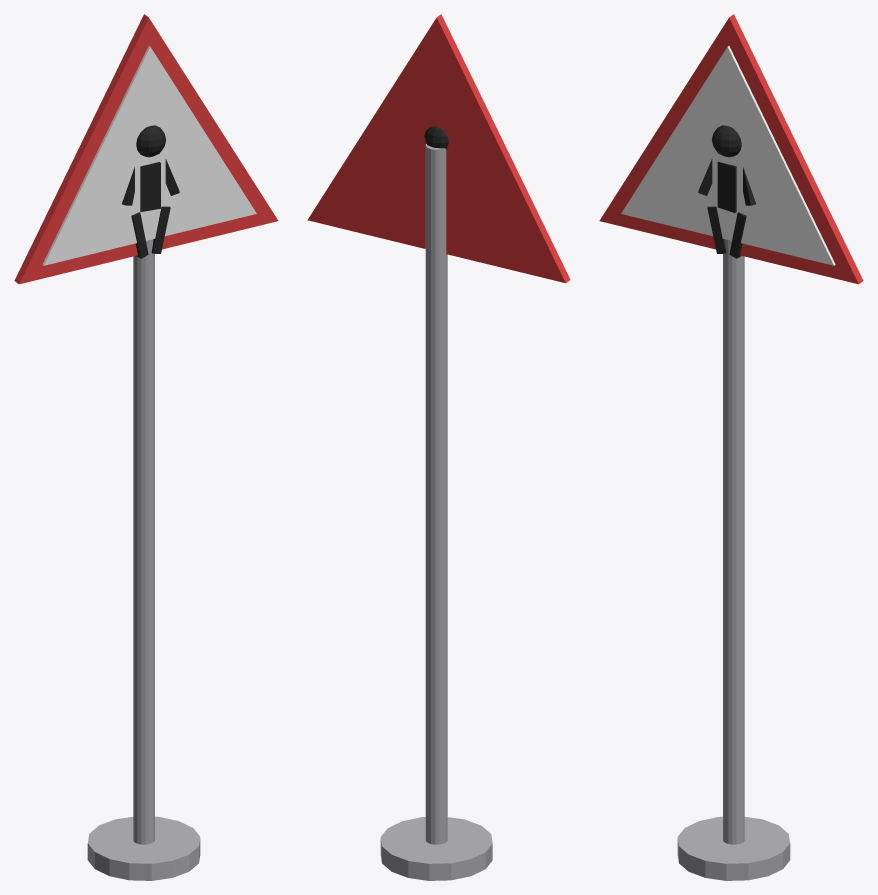
The model's file is PedestrianSign.fbx.
3 views of the same model, side by side, from view 1: azimuth 30°, elevation 25°; view 2: azimuth 150°, elevation 25°; view 3: azimuth 330°, elevation 25° (orthographic).
Parts seen in each view (by area): view 1: Sign_WhiteFace, Sign_Pole, Sign_RedBorder, Sign_Base, Ped_Body, Ped_Head; view 2: Sign_RedBorder, Sign_Pole, Sign_Base; view 3: Sign_WhiteFace, Sign_Pole, Sign_RedBorder, Sign_Base, Ped_Body, Ped_Head.
Boxes of the visible parts, bbox=[...] form: Sign_WhiteFace: bbox=[42, 46, 256, 265]; Sign_Pole: bbox=[133, 239, 154, 844]; Sign_RedBorder: bbox=[14, 14, 278, 284]; Sign_Base: bbox=[87, 816, 200, 880]; Ped_Body: bbox=[140, 162, 160, 211]; Ped_Head: bbox=[136, 125, 165, 157]; Sign_RedBorder: bbox=[307, 14, 570, 283]; Sign_Pole: bbox=[425, 144, 447, 844]; Sign_Base: bbox=[380, 817, 492, 880]; Sign_WhiteFace: bbox=[621, 46, 835, 265]; Sign_Pole: bbox=[723, 239, 744, 844]; Sign_RedBorder: bbox=[599, 14, 863, 284]; Sign_Base: bbox=[677, 816, 790, 880]; Ped_Body: bbox=[717, 161, 736, 212]; Ped_Head: bbox=[712, 125, 741, 157].
Size of the model in its own units: 95 by 295 by 36.
